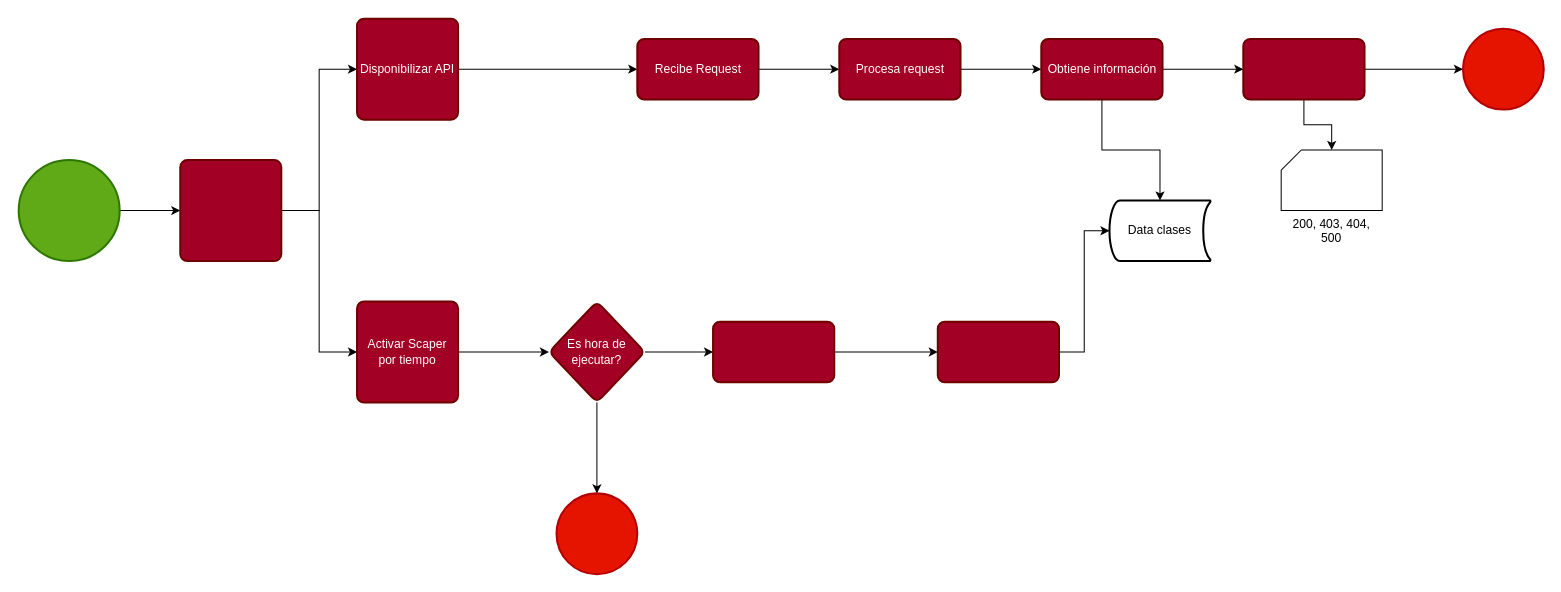
This 1561x592 diagram has some shape labels left out. The shapes that lost their labels are listed below. From the top down, each one's centre as x and y in pixels, then its label:
At point 1303,68: "Retorna respuesta".
At point 230,210: "Ejecutar app web".
At point 773,351: "Scraper web".
At point 997,351: "Almacenar en json".
